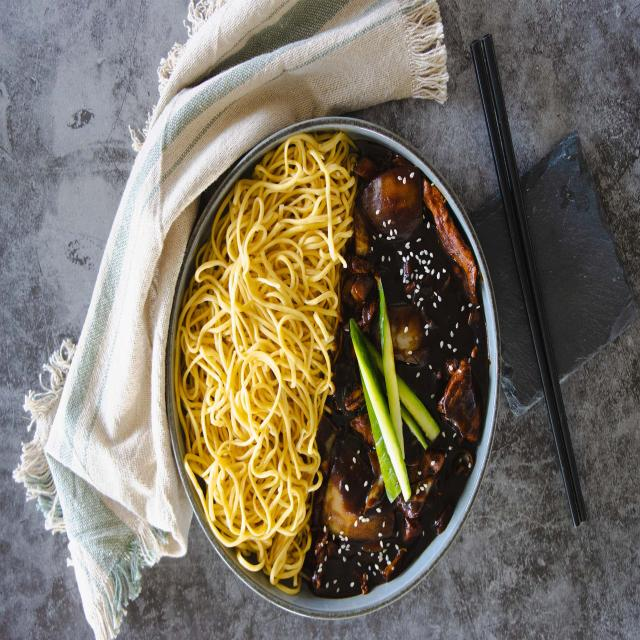carb: (176, 134, 357, 593)
meat: (300, 143, 490, 599)
vegetable: (351, 282, 440, 503)
